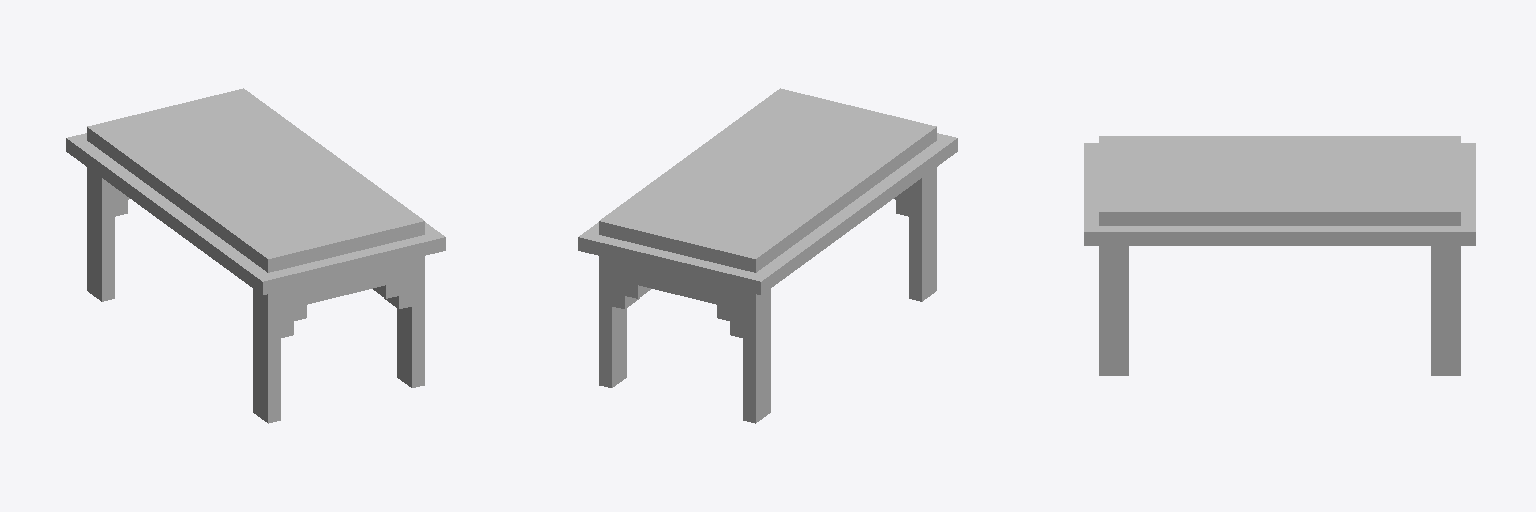
The model's file is table.obj.
3 renders of one model, left to right at view 1: azimuth 30°, elevation 25°; view 2: azimuth 150°, elevation 25°; view 3: azimuth 270°, elevation 25°, orthographic.
Visible parts, largest first — view 1: object 1; view 2: object 1; view 3: object 1.
Part boxes in pixels (bbox=[...]): object 1: bbox=[66, 88, 445, 423]; object 1: bbox=[578, 88, 957, 423]; object 1: bbox=[1084, 136, 1475, 375].
Bounding box in the file's own units: 1.4 × 1.2 × 2.6.